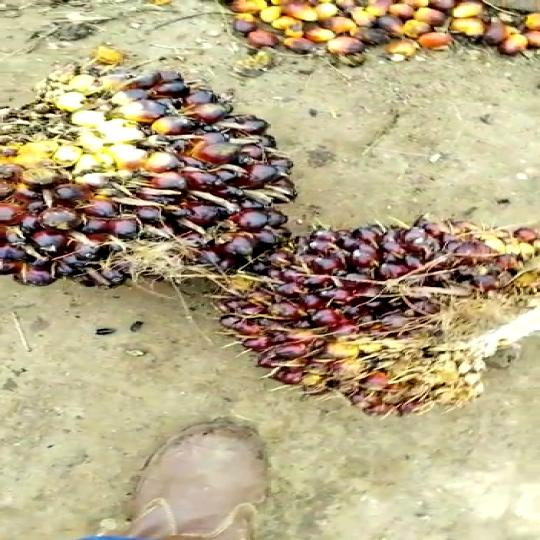kurang masak: (193, 202, 540, 420), (0, 70, 291, 305)
